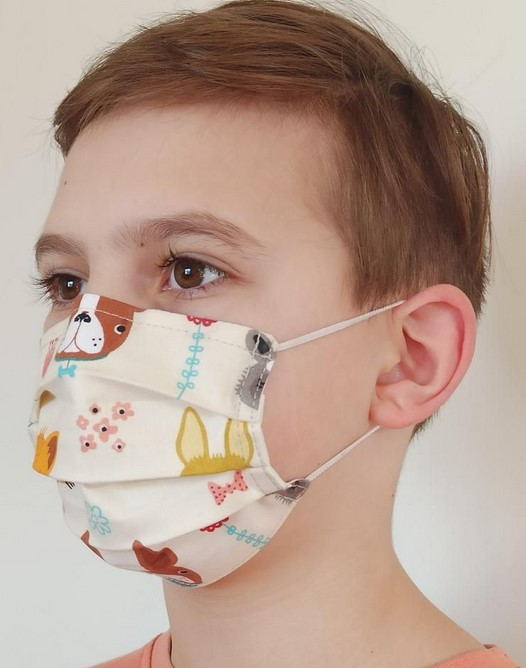face_with_mask: (28, 7, 489, 592)
